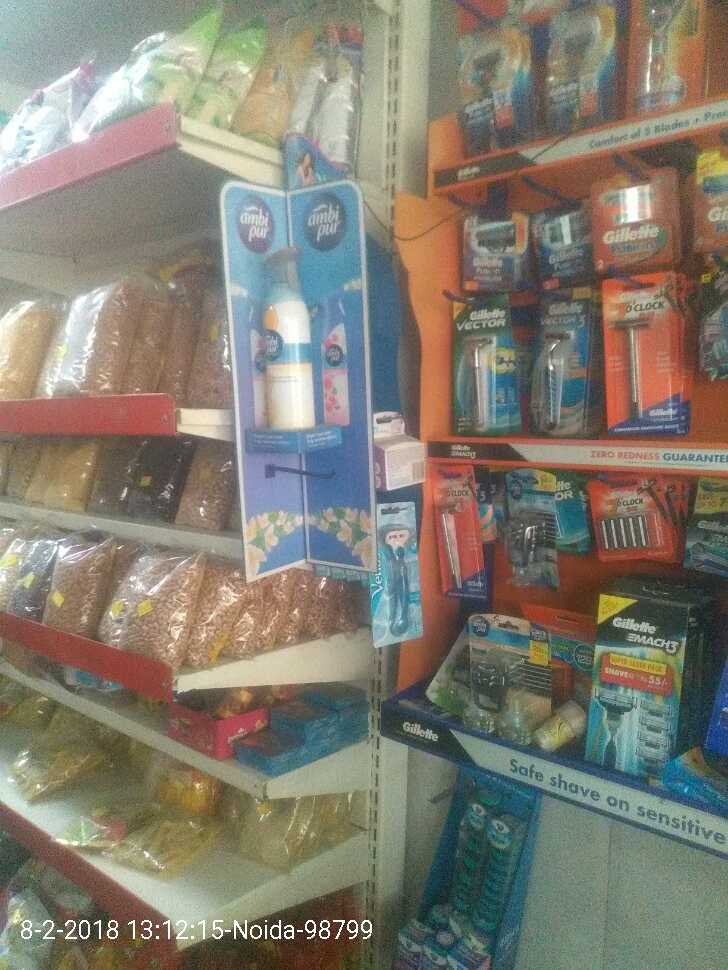beauty: (595, 593, 669, 775), (602, 272, 677, 432), (547, 10, 623, 134), (447, 291, 507, 441), (585, 163, 670, 268), (452, 18, 523, 135), (367, 500, 422, 650), (530, 282, 586, 426), (427, 465, 479, 601), (582, 471, 661, 560), (449, 216, 514, 319)
home: (249, 240, 324, 423), (463, 606, 552, 734)
